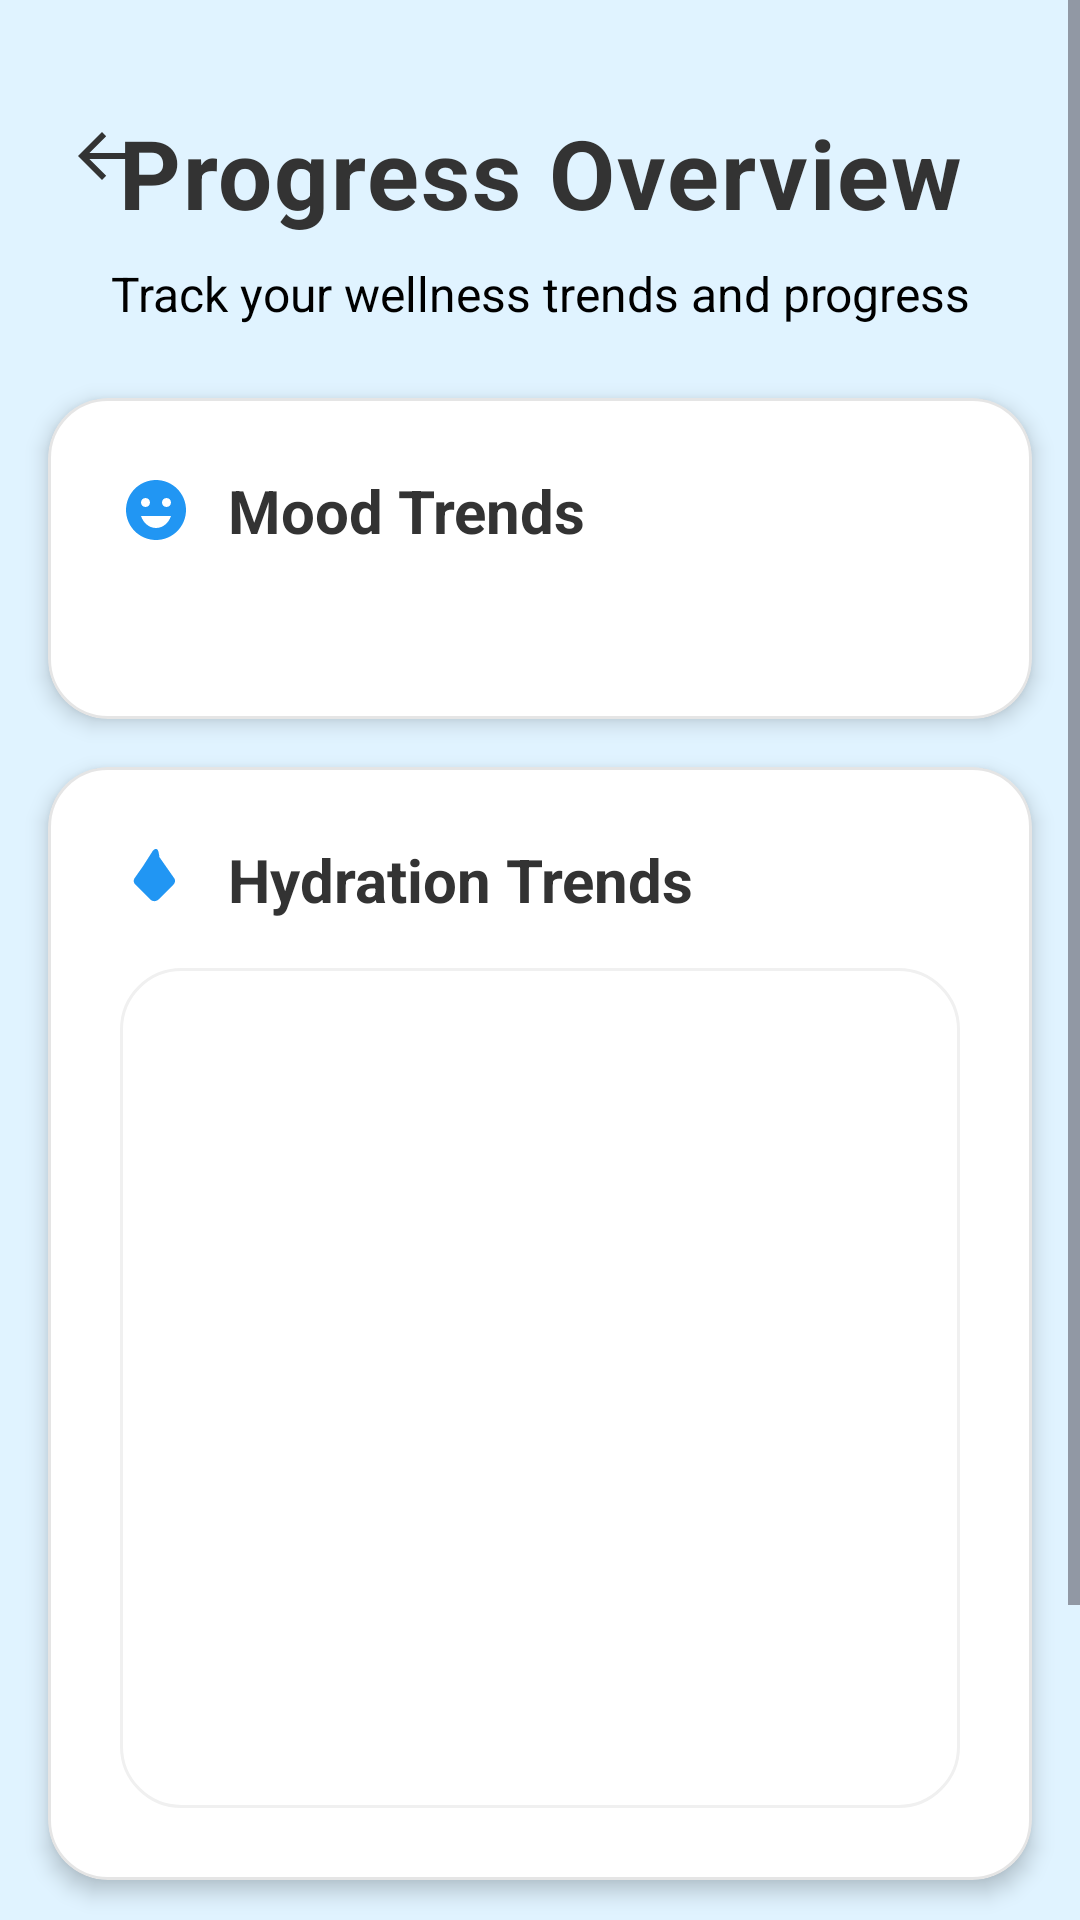

Icon bounding boxes for this 1080x1920 phone screenshot, format Rect(x1, y1, x2, y2):
mood happy: Rect(126, 480, 186, 540)
water: Rect(133, 849, 175, 902)
